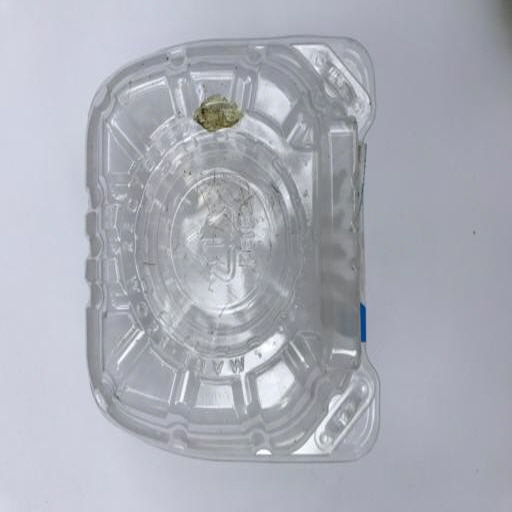Plastic_4: (81, 32, 382, 464)
